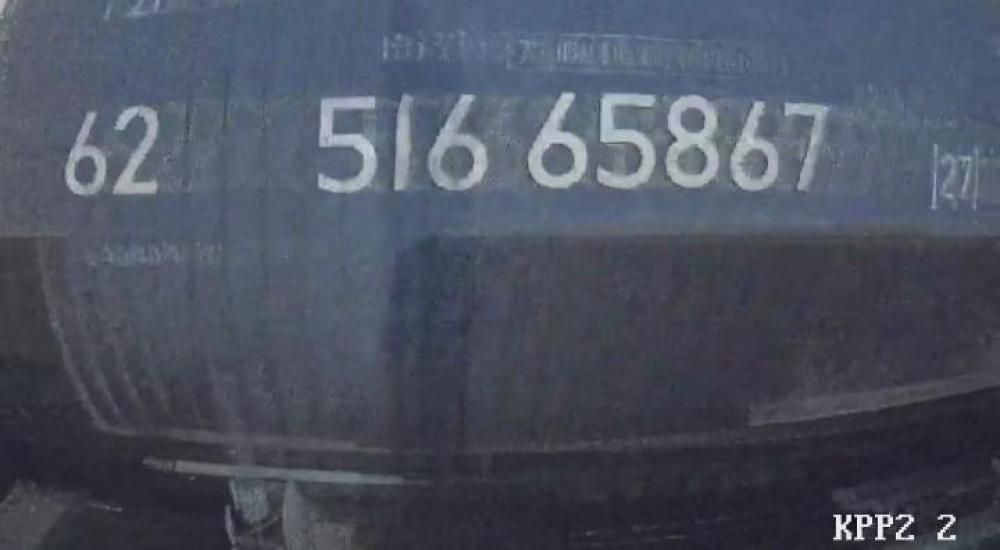Wagon-number: (307, 84, 840, 199)
